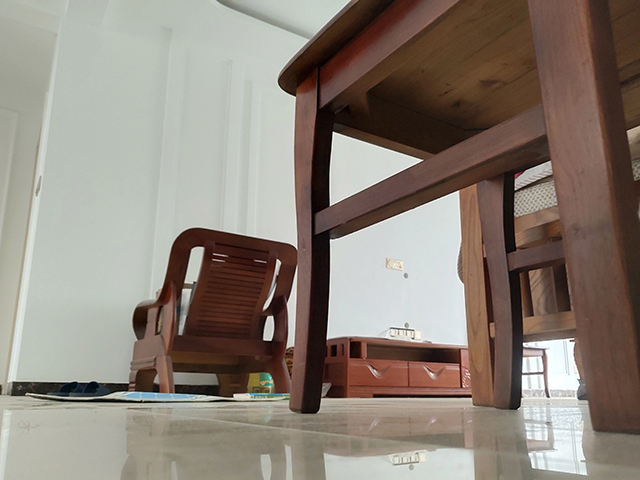book: (231, 392, 291, 403)
cabinet: (319, 333, 478, 399)
carpet: (22, 389, 290, 405)
slippers: (45, 379, 126, 399)
sofa: (127, 225, 300, 395)
stool: (276, 1, 640, 436), (520, 345, 552, 400)
